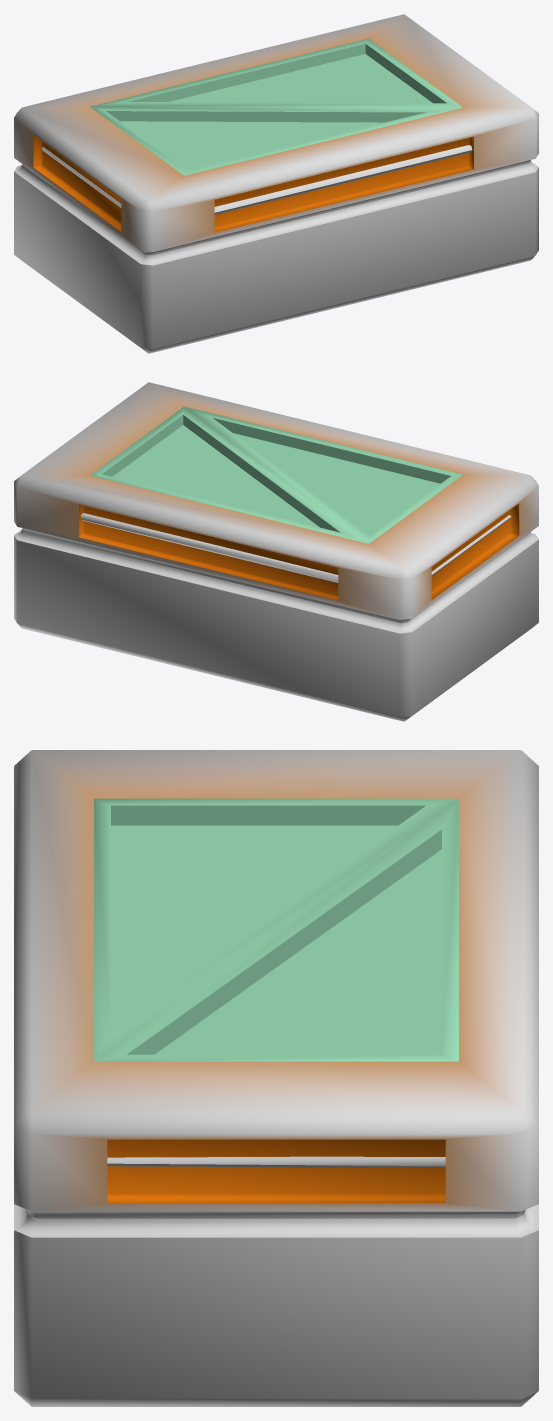
3 renders of one model, top to bottom at view 1: azimuth 30°, elevation 25°; view 2: azimuth 150°, elevation 25°; view 3: azimuth 270°, elevation 25°, orthographic. The views are drawn at different scales.
Parts seen in each view (by area): view 1: export_uv_wireframe1; view 2: export_uv_wireframe1; view 3: export_uv_wireframe1.
Part boxes in pixels (<box>): export_uv_wireframe1: <box>14,14,538,353</box>; export_uv_wireframe1: <box>14,382,538,721</box>; export_uv_wireframe1: <box>14,750,538,1406</box>.
Size of the model in its own units: 2.03 by 0.7481 by 1.2.
